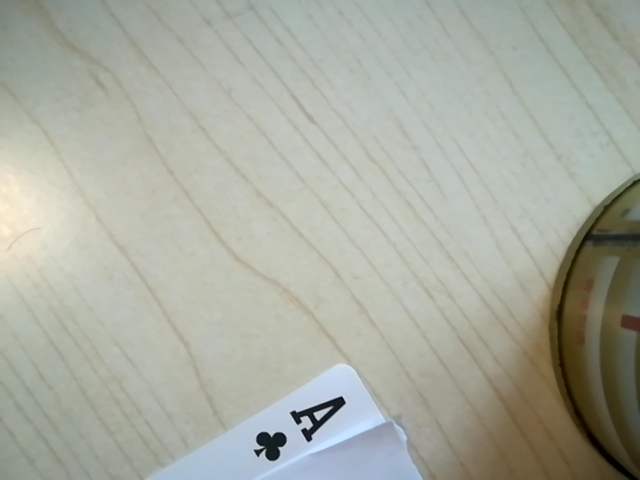mh a: (234, 387, 363, 472)
